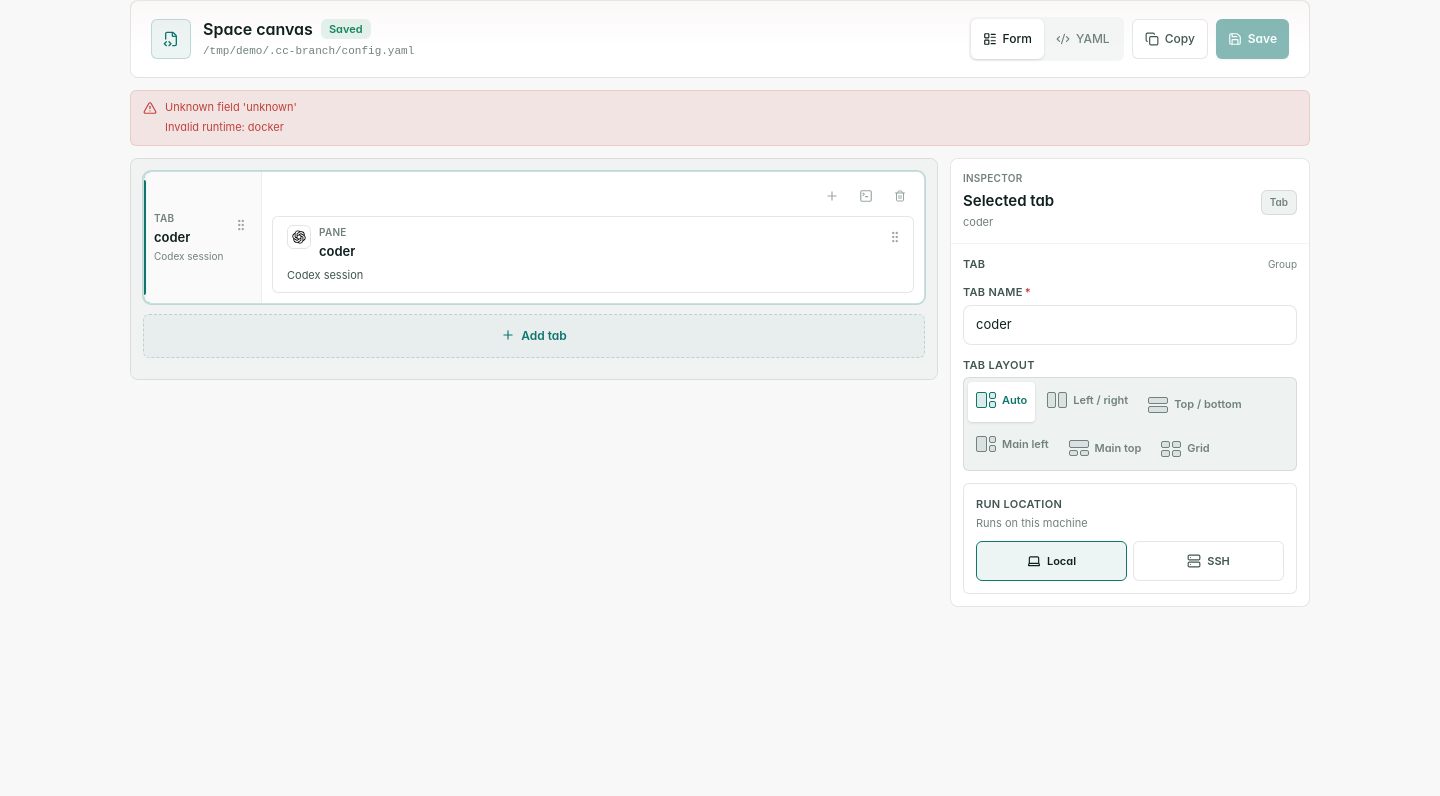
Test case: ConfigEditor diagnostics › hides shell command for agent-backed terminal slots
Click the button with aria-label "Edit pane coder" at (337, 251), box [272,216,914,293]
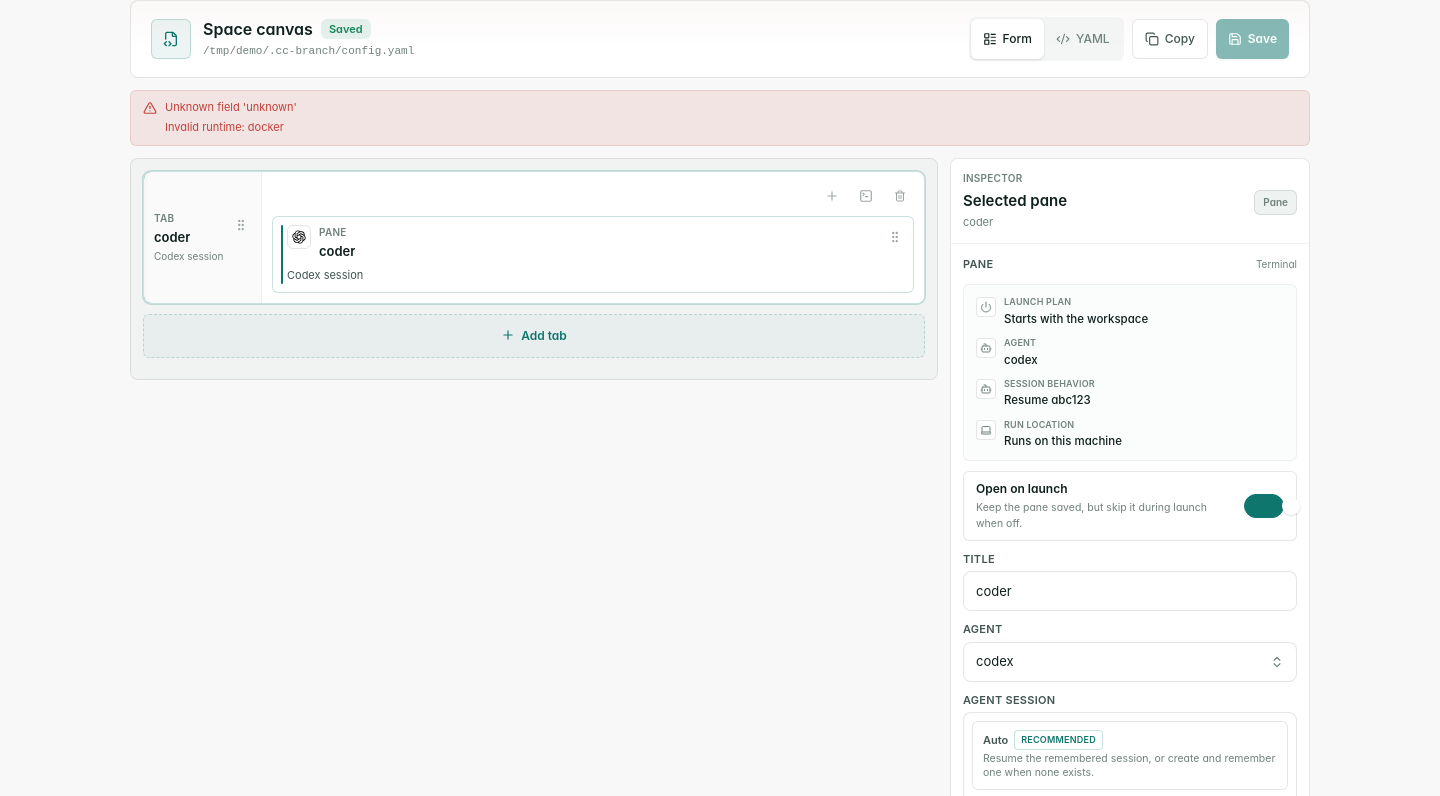
Now the text "Agent session" is shown, box [963,693,1055,707]
